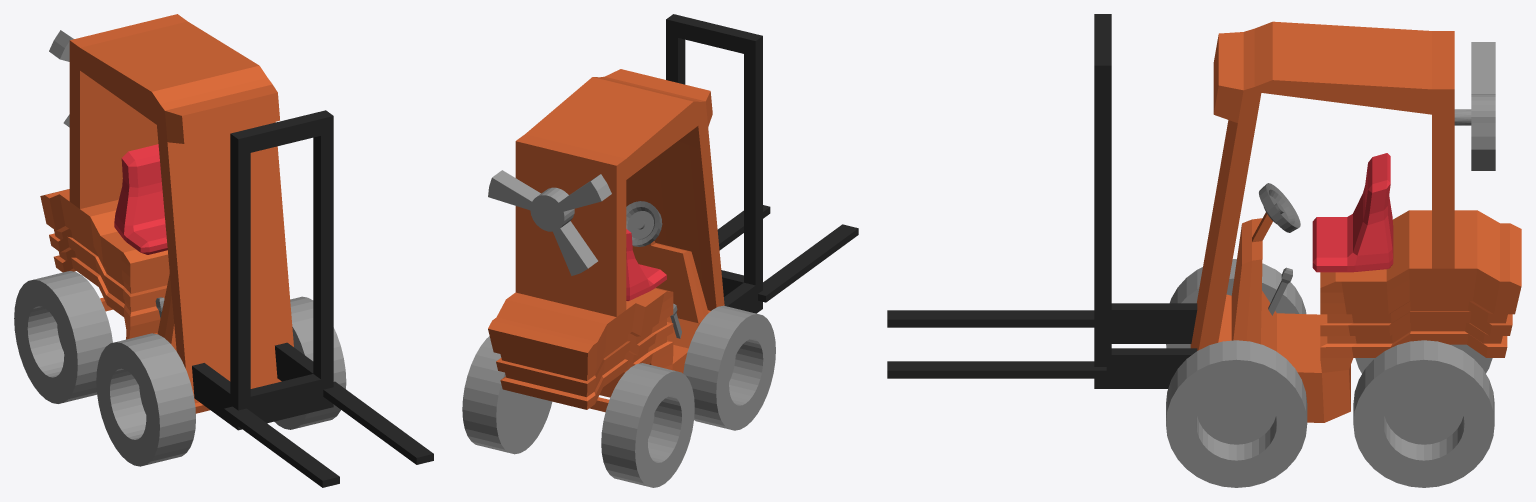
File: ReachTruckk.fbx
3 renders of one model, left to right at view 1: azimuth 30°, elevation 25°; view 2: azimuth 150°, elevation 25°; view 3: azimuth 270°, elevation 25°, orthographic. The views are drawn at different scales.
Visible parts, largest first — view 1: Cube, Куб, Цилиндр.004, Цилиндр.003, Куб.001, Куб.002, Цилиндр.001, Цилиндр.005; view 2: Cube, Цилиндр.003, Цилиндр.004, Куб, Цилиндр, Цилиндр.005, Куб.001, Цилиндр.002, Куб.002; view 3: Cube, Цилиндр, Цилиндр.001, Куб, Куб.001, Куб.002, Цилиндр.005, Цилиндр.004, Цилиндр.002.
Boxes of the visible parts, x1,y1,x2,y2 form: Cube: (40,14,293,413); Куб: (192,110,333,430); Цилиндр.004: (96,333,195,466); Цилиндр.003: (14,271,112,403); Куб.001: (224,381,433,487); Куб.002: (114,144,167,254); Цилиндр.001: (274,296,346,429); Цилиндр.005: (49,30,73,127); Cube: (488,69,724,412); Цилиндр.003: (601,363,694,487); Цилиндр.004: (683,305,775,430); Куб: (666,14,762,313); Цилиндр: (462,336,552,454); Цилиндр.005: (488,170,611,275); Куб.001: (717,205,858,302); Цилиндр.002: (626,201,662,246); Куб.002: (626,229,666,300); Cube: (1190,21,1521,422); Цилиндр: (1353,340,1494,487); Цилиндр.001: (1166,340,1307,487); Куб: (1094,14,1197,388); Куб.001: (887,310,1106,378); Куб.002: (1312,153,1393,272); Цилиндр.005: (1454,42,1495,170); Цилиндр.004: (1166,259,1306,348); Цилиндр.002: (1259,183,1300,232).
Bounding box in the file's own units: 93.78 × 172 × 249.
